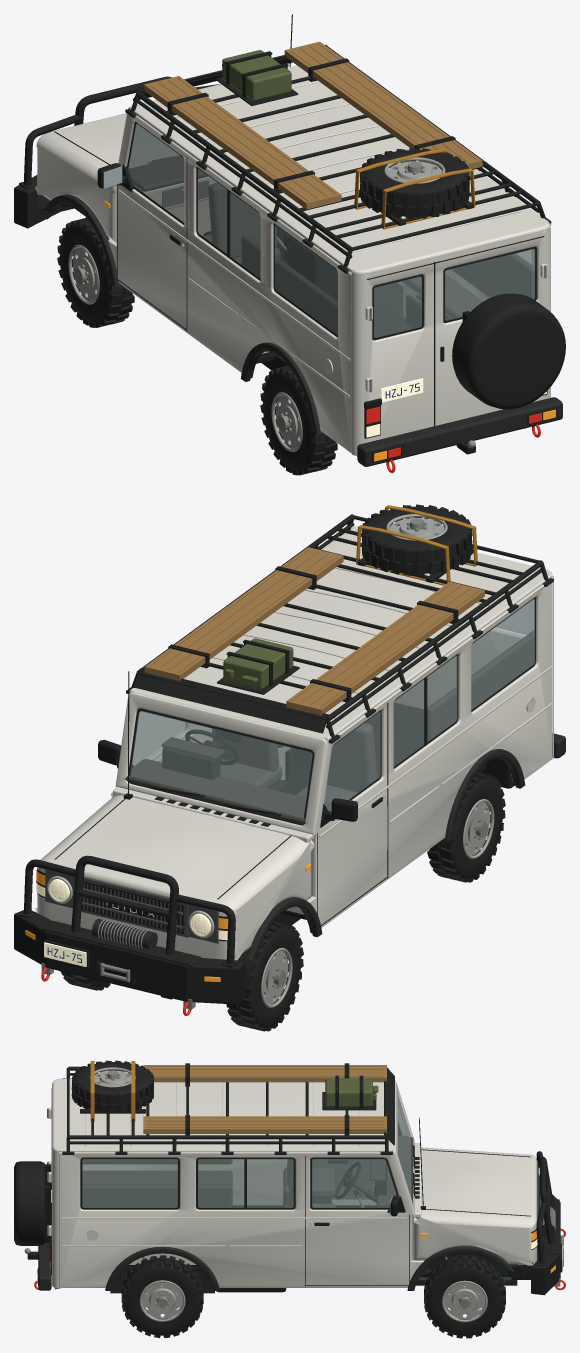
Rendered from troopy-proposal-v1.glb.
3 renders of one model, top to bottom at view 1: azimuth 30°, elevation 25°; view 2: azimuth 150°, elevation 25°; view 3: azimuth 270°, elevation 25°, orthographic. The views are drawn at different scales.
Visible parts, largest first — view 1: body-cabin-and-equipment, troop-carrier; view 2: body-cabin-and-equipment, troop-carrier; view 3: body-cabin-and-equipment, troop-carrier, instruments.
Boxes of the visible parts, x1=… form: body-cabin-and-equipment: x1=14, y1=14, x2=565, y2=473; troop-carrier: x1=57, y1=41, x2=482, y2=475; body-cabin-and-equipment: x1=14, y1=504, x2=565, y2=1015; troop-carrier: x1=60, y1=547, x2=505, y2=1031; body-cabin-and-equipment: x1=14, y1=1060, x2=565, y2=1295; troop-carrier: x1=121, y1=1063, x2=505, y2=1338; instruments: x1=335, y1=1162, x2=361, y2=1199.
Size of the model in its own units: 2.19 by 2.51 by 5.44.
